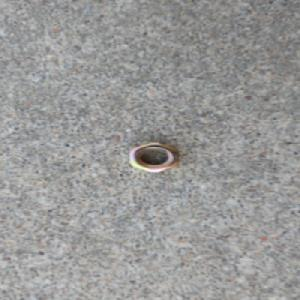Nut: (126, 142, 180, 173)
